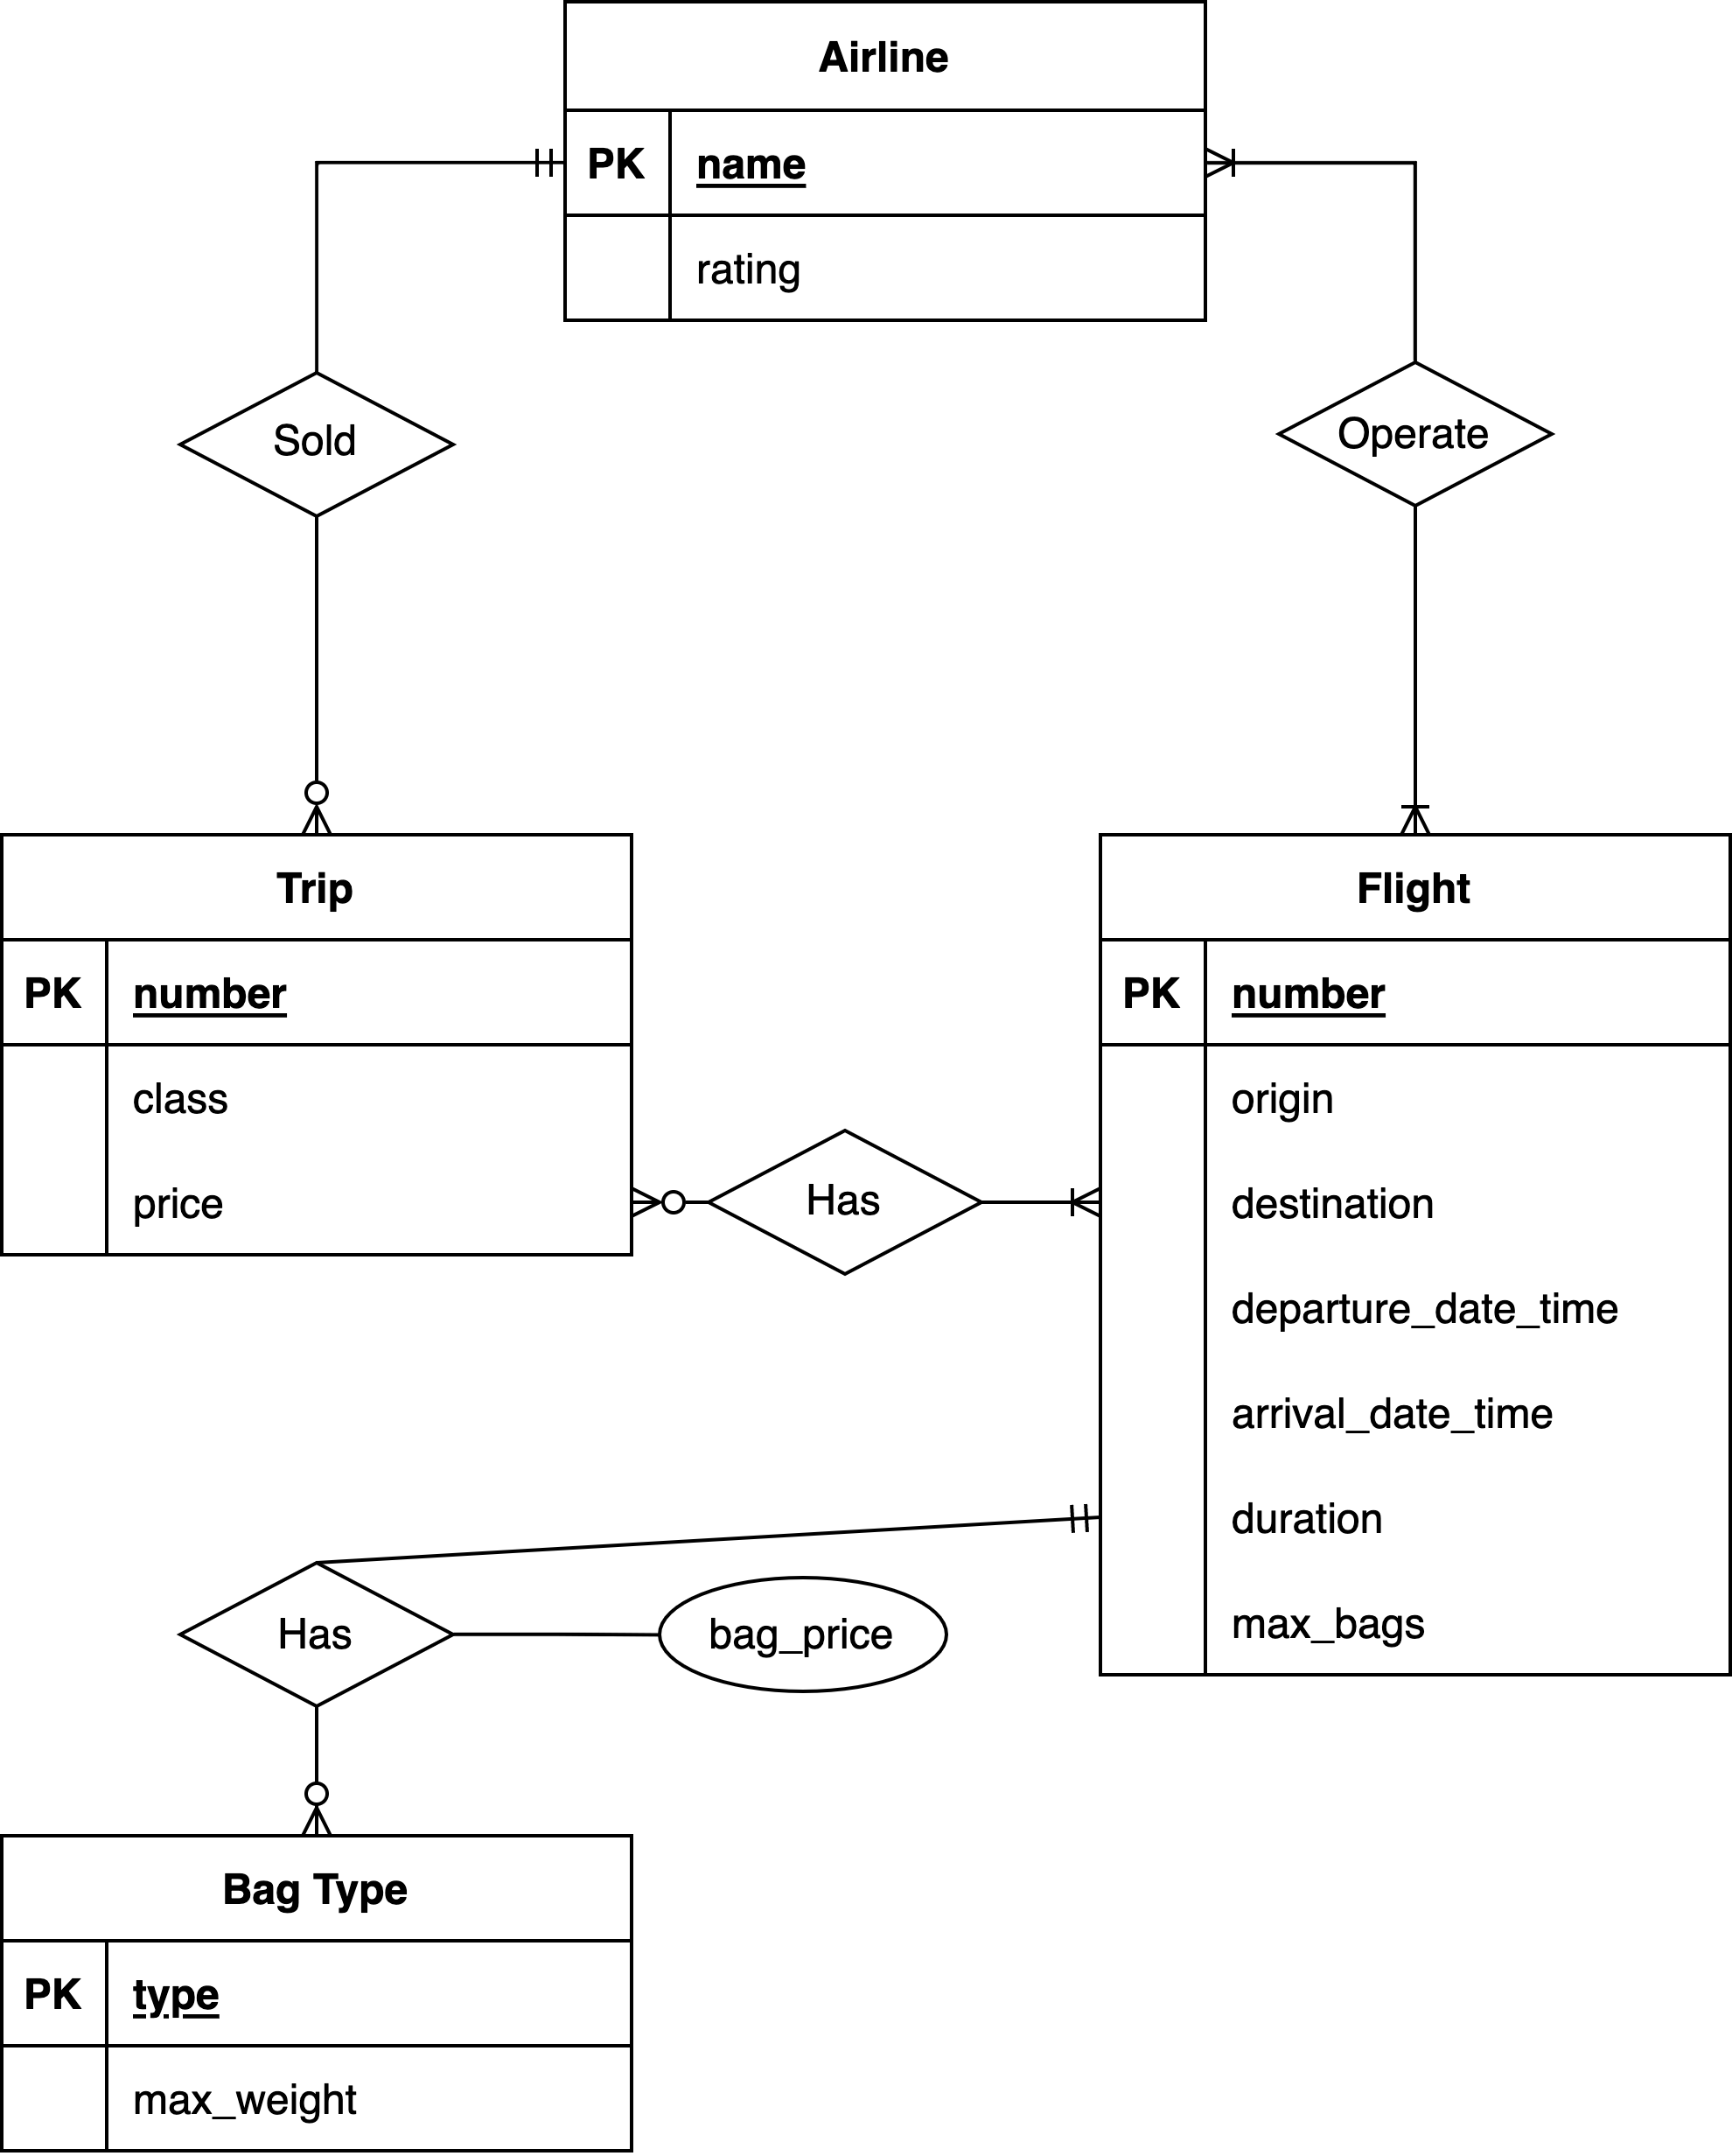entity: (1103, 832, 1732, 1672), (5, 838, 629, 1249), (560, 2, 1207, 316), (0, 1836, 629, 2151)
many: (262, 1765, 371, 1836), (1205, 115, 1290, 201), (272, 758, 373, 831), (1037, 1143, 1103, 1248), (1366, 769, 1465, 834), (626, 1152, 693, 1242)
one: (1025, 1476, 1099, 1555), (479, 134, 571, 196)
rel: (714, 1119, 983, 1281), (184, 1555, 447, 1716), (1267, 364, 1561, 505), (182, 376, 456, 512)
rel_attr: (661, 1575, 951, 1695)
